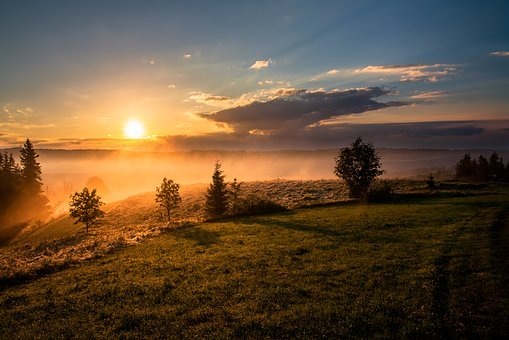field: (11, 203, 507, 340)
sky: (1, 1, 502, 152)
tree: (335, 138, 385, 206), (198, 150, 248, 218), (1, 145, 50, 213), (59, 174, 109, 232), (143, 168, 193, 226)
